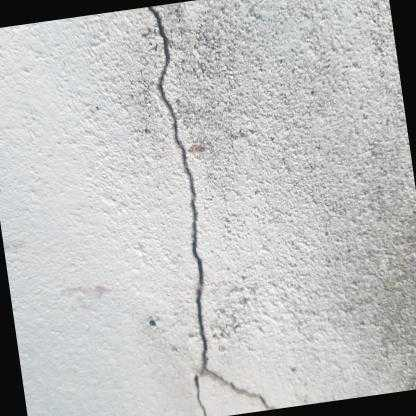crack: (146, 6, 275, 416)
